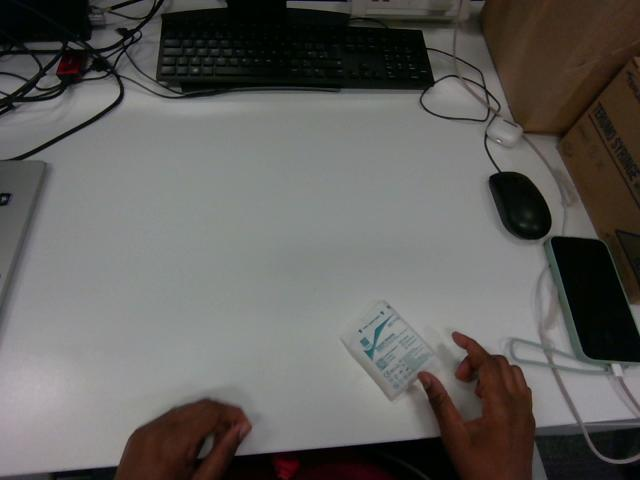gauze: (341, 301, 436, 399)
